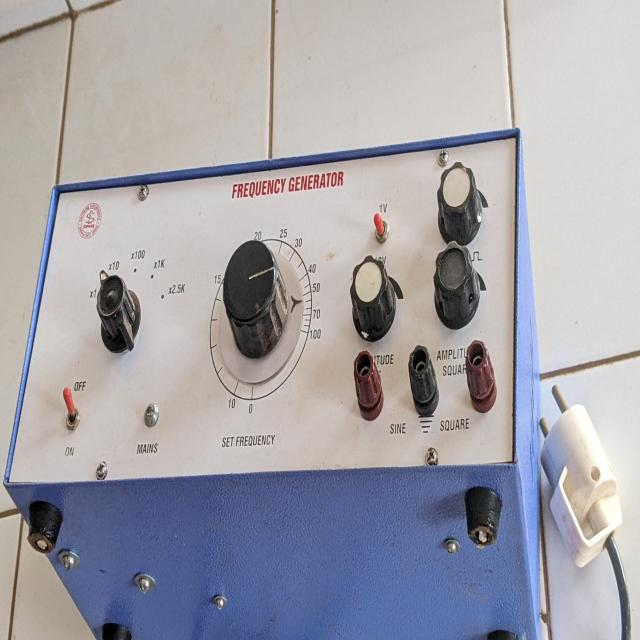Analog Frequency Generator: (9, 118, 553, 640)
